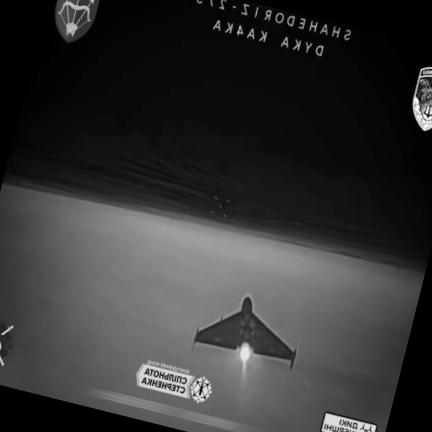Shahed: (191, 295, 296, 370)
